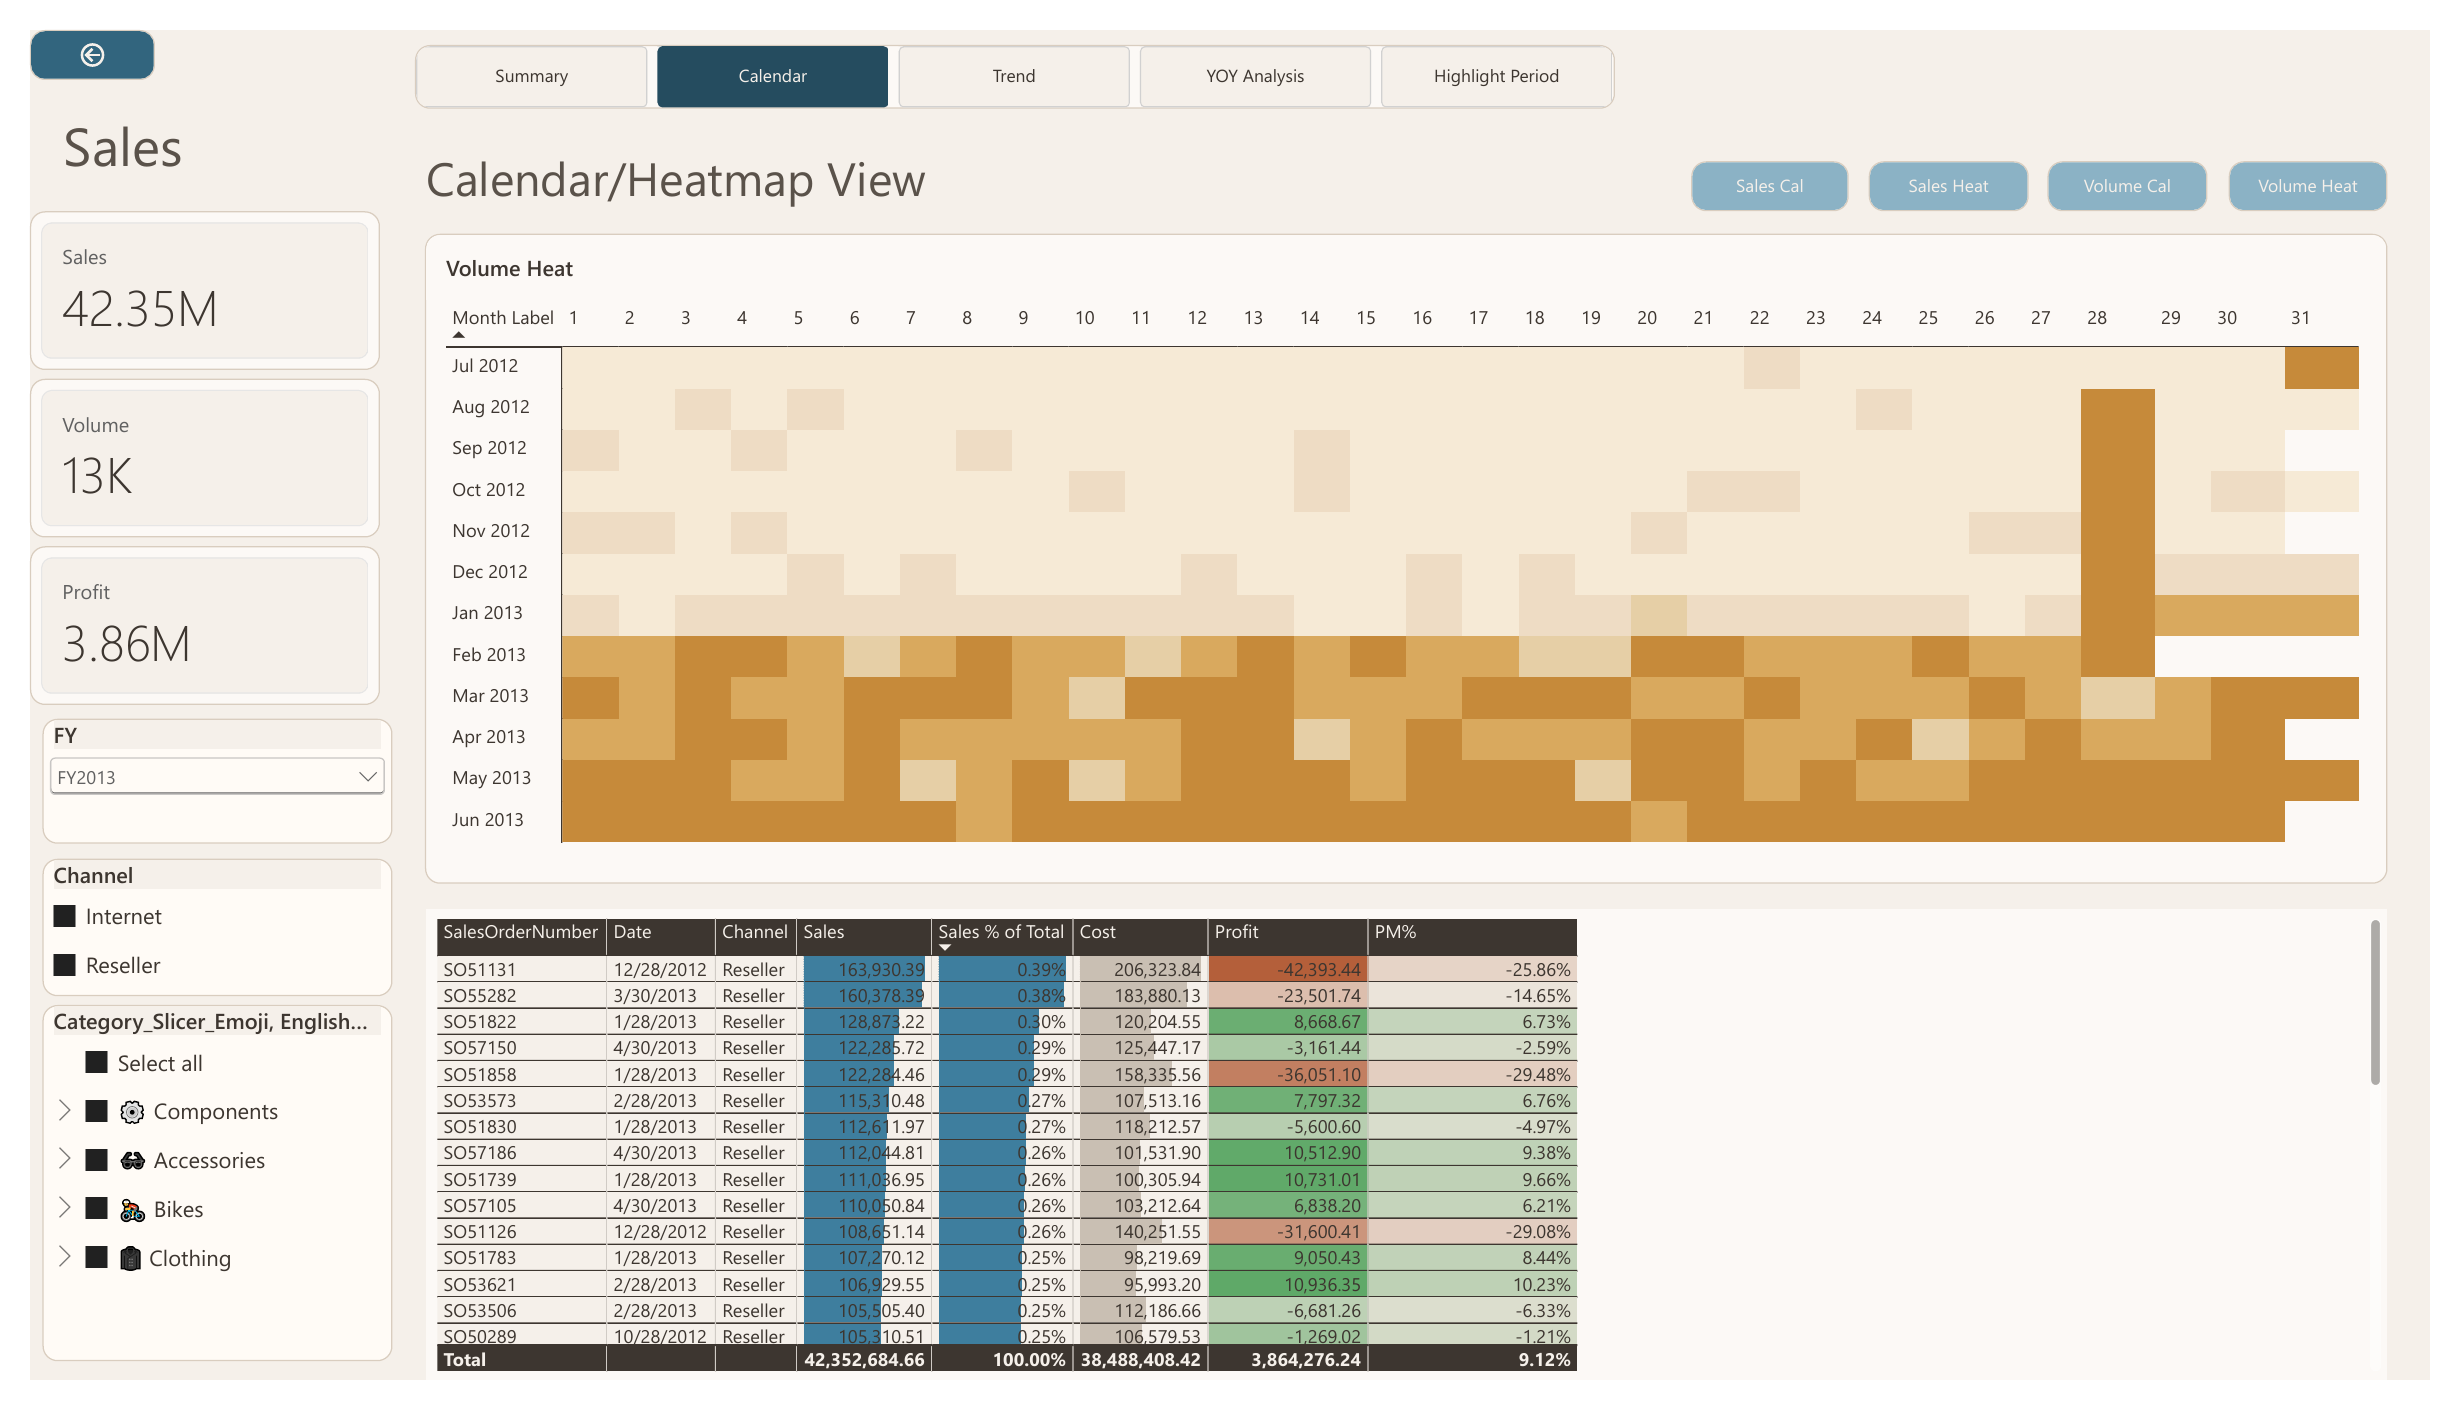

The page's visual inventory and layout, read from the dashboard file:
{"tool":"powerbi","page":{"name":"Calendar","canvas":[1920,1080],"ordinal":1},"visuals":[{"type":"group","id":"g1","title":"SlicerPanel","box":[9.5,551,280.5,513.9],"z":0},{"type":"cardVisual","title":"Sales","fields":{"Data":["_Measures.Sales"]},"box":[0,145,280,127],"z":1000},{"type":"slicer","fields":{"Values":["Date.FY"]},"box":[10,551,280,100],"z":1000,"group":"g1"},{"type":"cardVisual","title":"Profit","fields":{"Data":["_Measures.Profit"]},"box":[0,413,280,127],"z":2000},{"type":"slicer","fields":{"Values":["Sales.Channel"]},"box":[10,663,280,110],"z":2000,"group":"g1"},{"type":"cardVisual","title":"Volume","fields":{"Data":["_Measures.Volume"]},"box":[0,279,280,127],"z":3000},{"type":"slicer","fields":{"Values":["DimProductCategory.Category_Slicer_Emoji","DimProductSubcategory.EnglishProductSubcategoryName"]},"box":[9.5,780.5,280.5,284.4],"z":3000,"group":"g1"},{"type":"tableEx","title":"Reseller table","fields":{"Values":["Sales.SalesOrderNumber","Date.Date Hierarchy.Date","Sales.Channel","_Measures.Sales","_Measures.Sales % of Total","_Measures.Cost","_Measures.Profit","_Measures.PM%"]},"box":[316.8,703.2,1569.5,377.3],"z":4000},{"type":"pageNavigator","box":[308,12,960,51],"z":5000},{"type":"pivotTable","title":"Volume Heat","fields":{"Columns":["Date.Day of Month"],"Rows":["Date.Month Label"],"Values":["_Measures.Volume"]},"box":[316,163,1570,520],"z":9000},{"type":"actionButton","box":[1328.6,105.4,126.8,39.3],"z":10000},{"type":"actionButton","box":[1471.4,105.4,127.5,40],"z":11000},{"type":"actionButton","box":[1614.3,105.4,127.5,40],"z":12000},{"type":"actionButton","box":[1758.9,105.4,127.5,40],"z":13000},{"type":"textbox","box":[0,540,280,150],"z":14000},{"type":"textbox","box":[26.7,63.3,280,1016.7],"z":15000},{"type":"textbox","box":[316.7,93.3,506.7,63.3],"z":16000},{"type":"actionButton","box":[0,0,100,40],"z":16001}]}

Visuals, with their boxes in screenshot pixels (x1, y1, x2, y2), scaled from the page's 1920x1080 canvas onto the 2460x1410 screenshot:
"SlicerPanel" group: {"left": 12, "top": 719, "right": 372, "bottom": 1390}
"Sales" cardVisual: {"left": 0, "top": 189, "right": 359, "bottom": 355}
slicer - Date.FY: {"left": 13, "top": 719, "right": 372, "bottom": 850}
"Profit" cardVisual: {"left": 0, "top": 539, "right": 359, "bottom": 705}
slicer - Sales.Channel: {"left": 13, "top": 866, "right": 372, "bottom": 1009}
"Volume" cardVisual: {"left": 0, "top": 364, "right": 359, "bottom": 530}
slicer - DimProductCategory.Category_Slicer_Emoji x DimProductSubcategory.EnglishProductSubcategoryName: {"left": 12, "top": 1019, "right": 372, "bottom": 1390}
"Reseller table" tableEx: {"left": 406, "top": 918, "right": 2417, "bottom": 1409}
pageNavigator: {"left": 395, "top": 16, "right": 1625, "bottom": 82}
"Volume Heat" pivotTable: {"left": 405, "top": 213, "right": 2416, "bottom": 892}
actionButton: {"left": 1702, "top": 138, "right": 1865, "bottom": 189}
actionButton: {"left": 1885, "top": 138, "right": 2049, "bottom": 190}
actionButton: {"left": 2068, "top": 138, "right": 2232, "bottom": 190}
actionButton: {"left": 2254, "top": 138, "right": 2417, "bottom": 190}
textbox: {"left": 0, "top": 705, "right": 359, "bottom": 901}
textbox: {"left": 34, "top": 83, "right": 393, "bottom": 1409}
textbox: {"left": 406, "top": 122, "right": 1055, "bottom": 204}
actionButton: {"left": 0, "top": 0, "right": 128, "bottom": 52}
